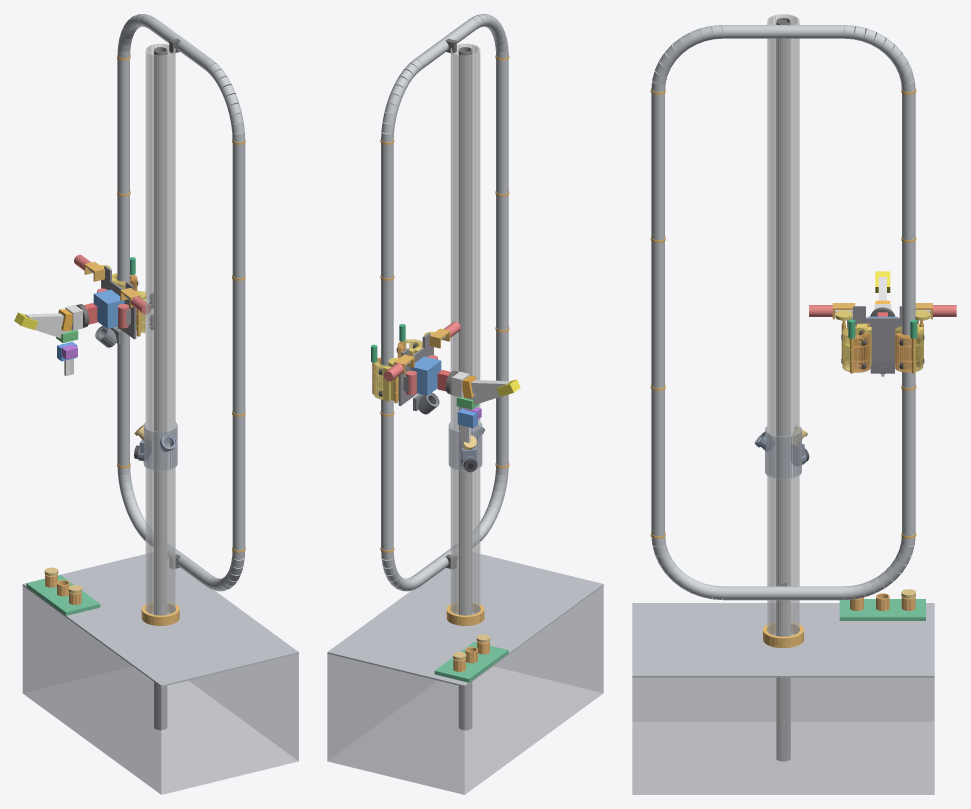
Rendered from transplant-seedling-step4-seat-v5.glb.
3 renders of one model, left to right at view 1: azimuth 30°, elevation 25°; view 2: azimuth 150°, elevation 25°; view 3: azimuth 270°, elevation 25°, orthographic. The views are drawn at different scales.
Size of the model in its own units: 0.4837 by 1.9 by 0.751.
